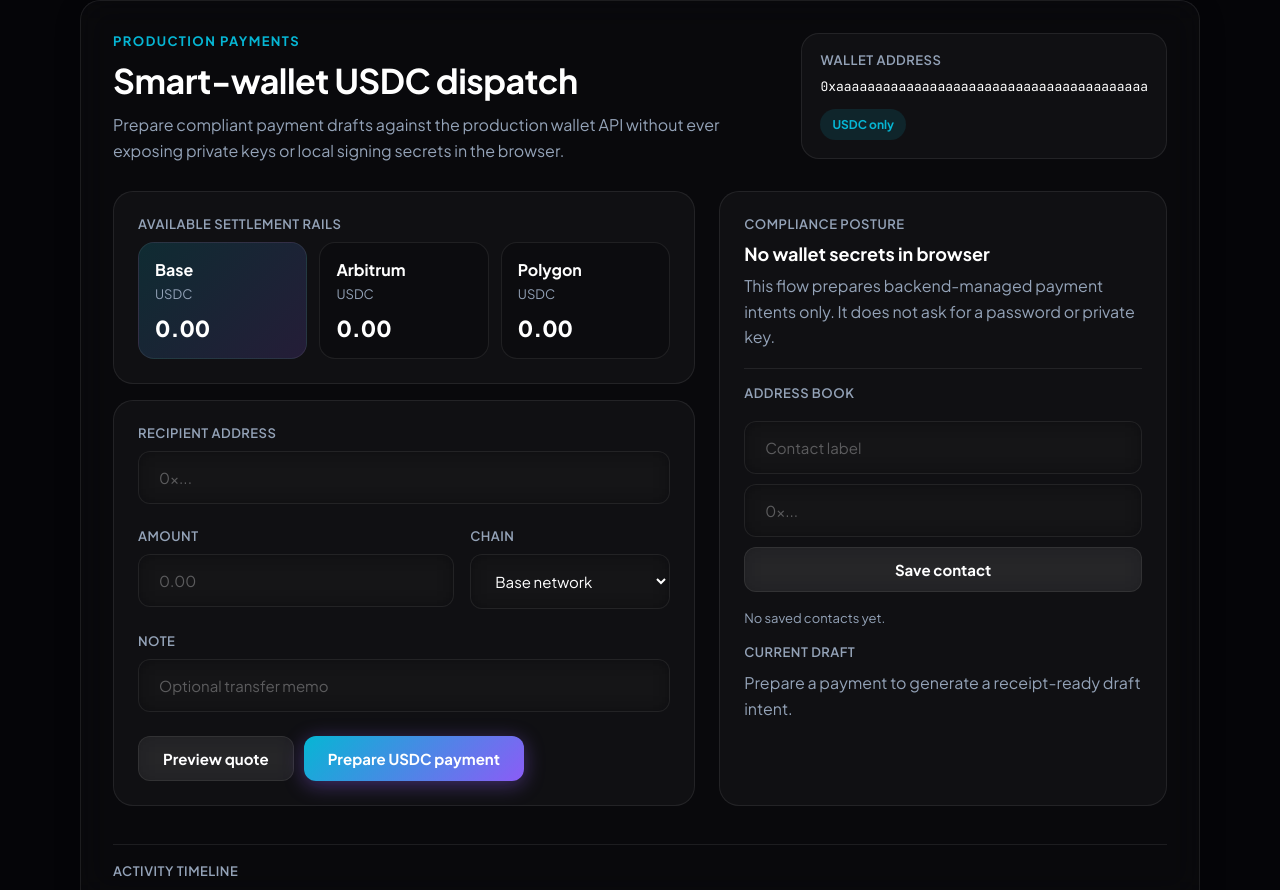
ProductionWalletApp › shows backend error detail when quote preview fails
Type "0xbbbbbbbbbbbbbbbbbbbbbbbbbbbbbbbbbbbbbbbb" into the field labelled "Recipient address".
click(404, 478); type("0xbbbbbbbbbbbbbbbbbbbbbbbbbbbbbbbbbbbbbbbb")  # box [138,451,670,504]
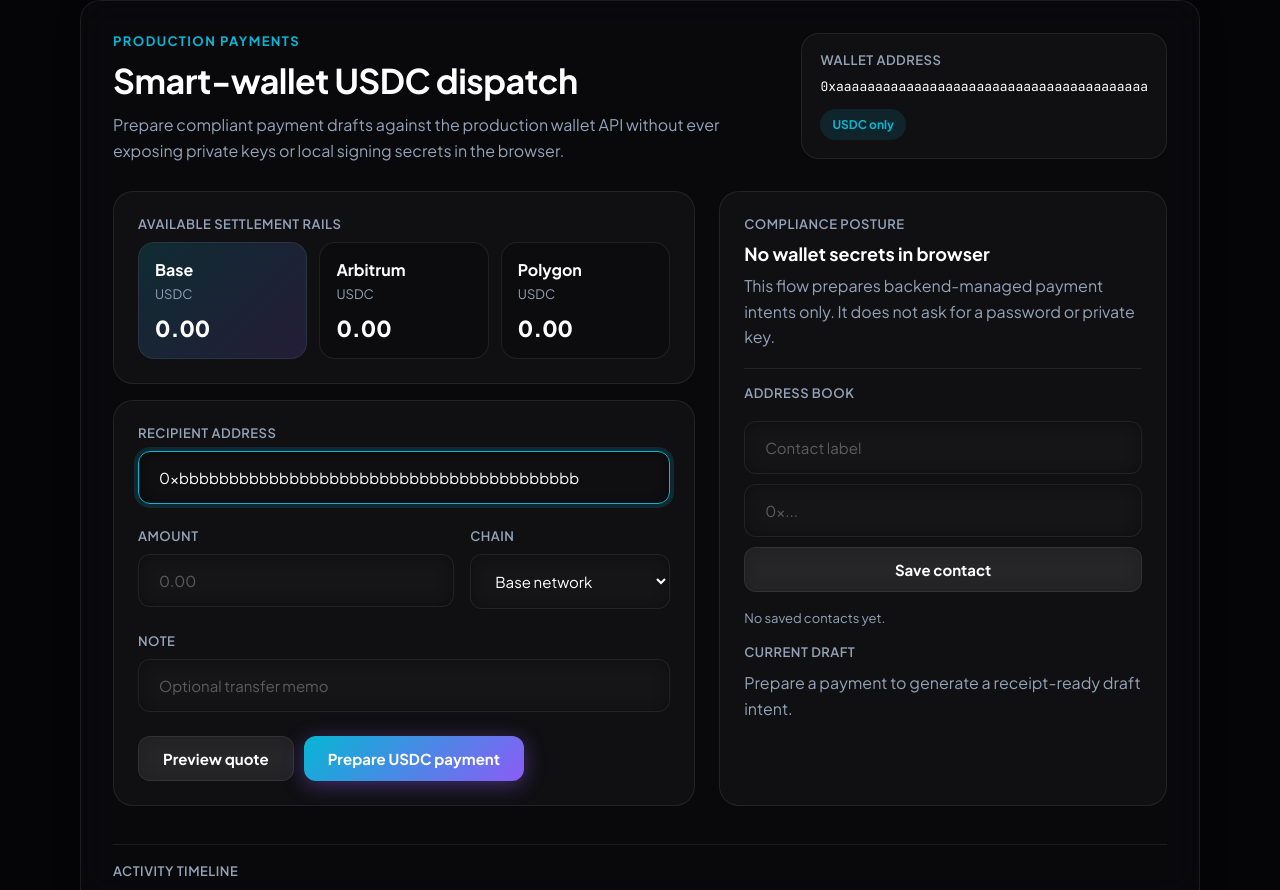
Type "12.50" into the field labelled "Amount".
click(296, 581); type("12.50")  # box [138,554,454,607]
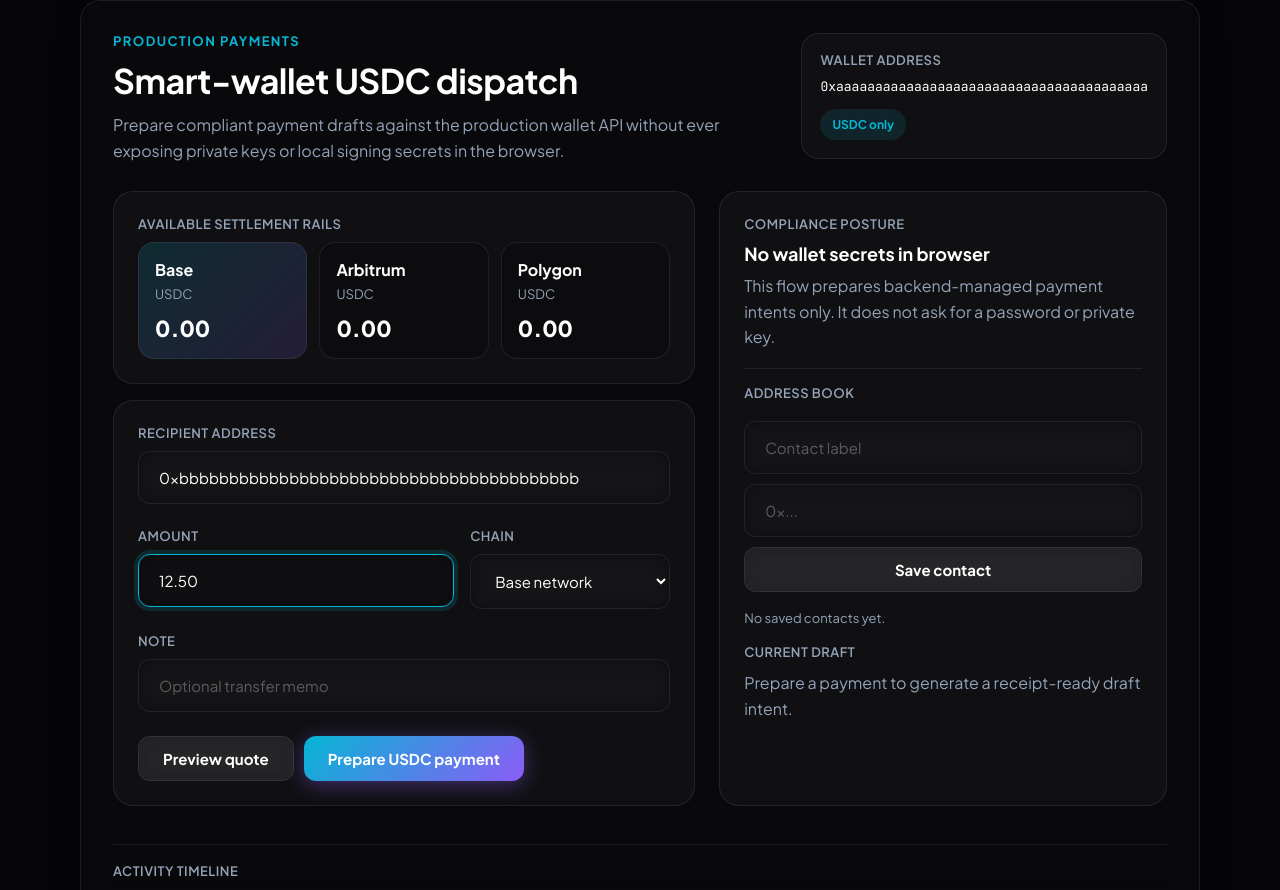
Click the button "Preview quote".
click(216, 759)  # box [138,736,294,781]
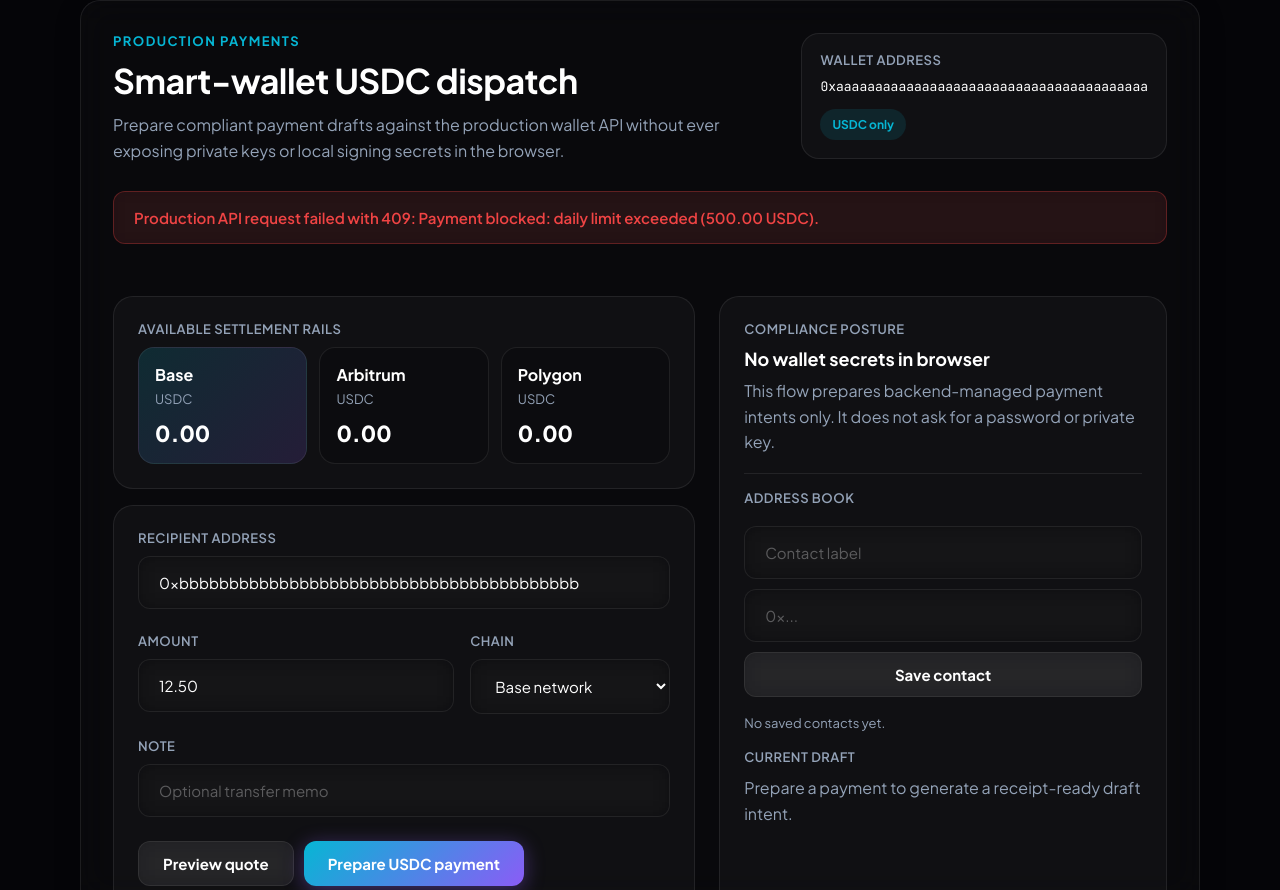
Now the text "Production API request failed with 409: Payment blocked: daily limit exceeded (500.00 USDC)." is shown, box [134,208,819,227]
